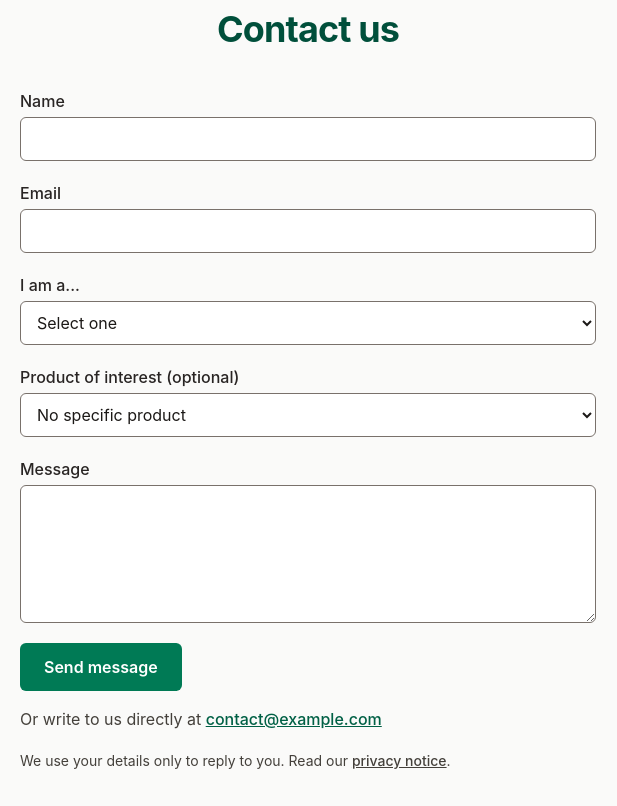
Test case: ContactSection › edge cases › updates the email error from "empty" to "invalid" while typing
Submit the form
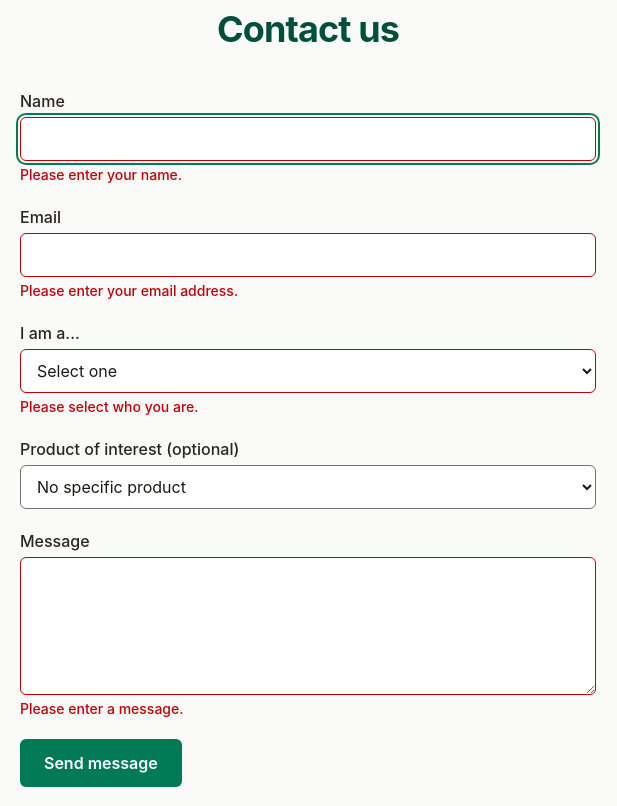
Type "name@" into the field with id "contact-email" at x=308, y=255, box [20,233,596,277]
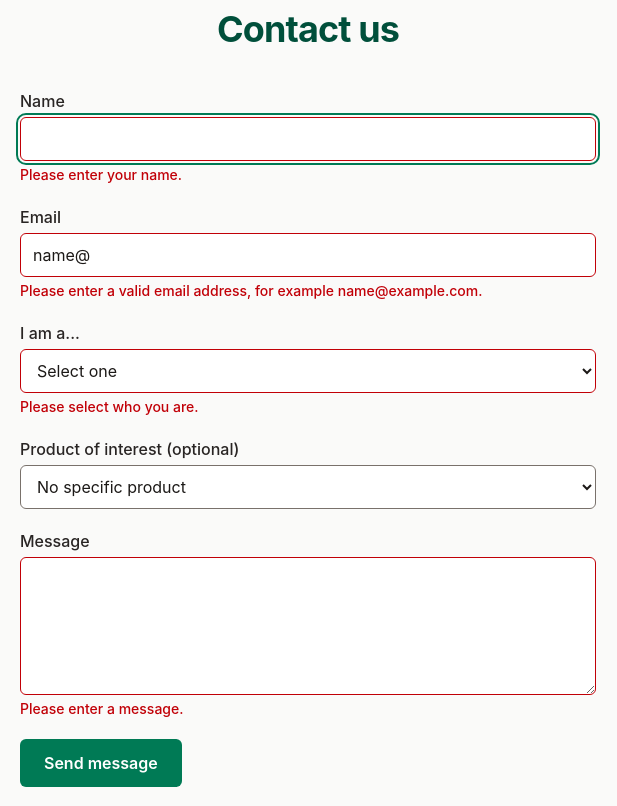
Expected: the message with id "contact-email-error" reads "Please enter a valid email address, for example name@example.com.", [20,282,482,299]
